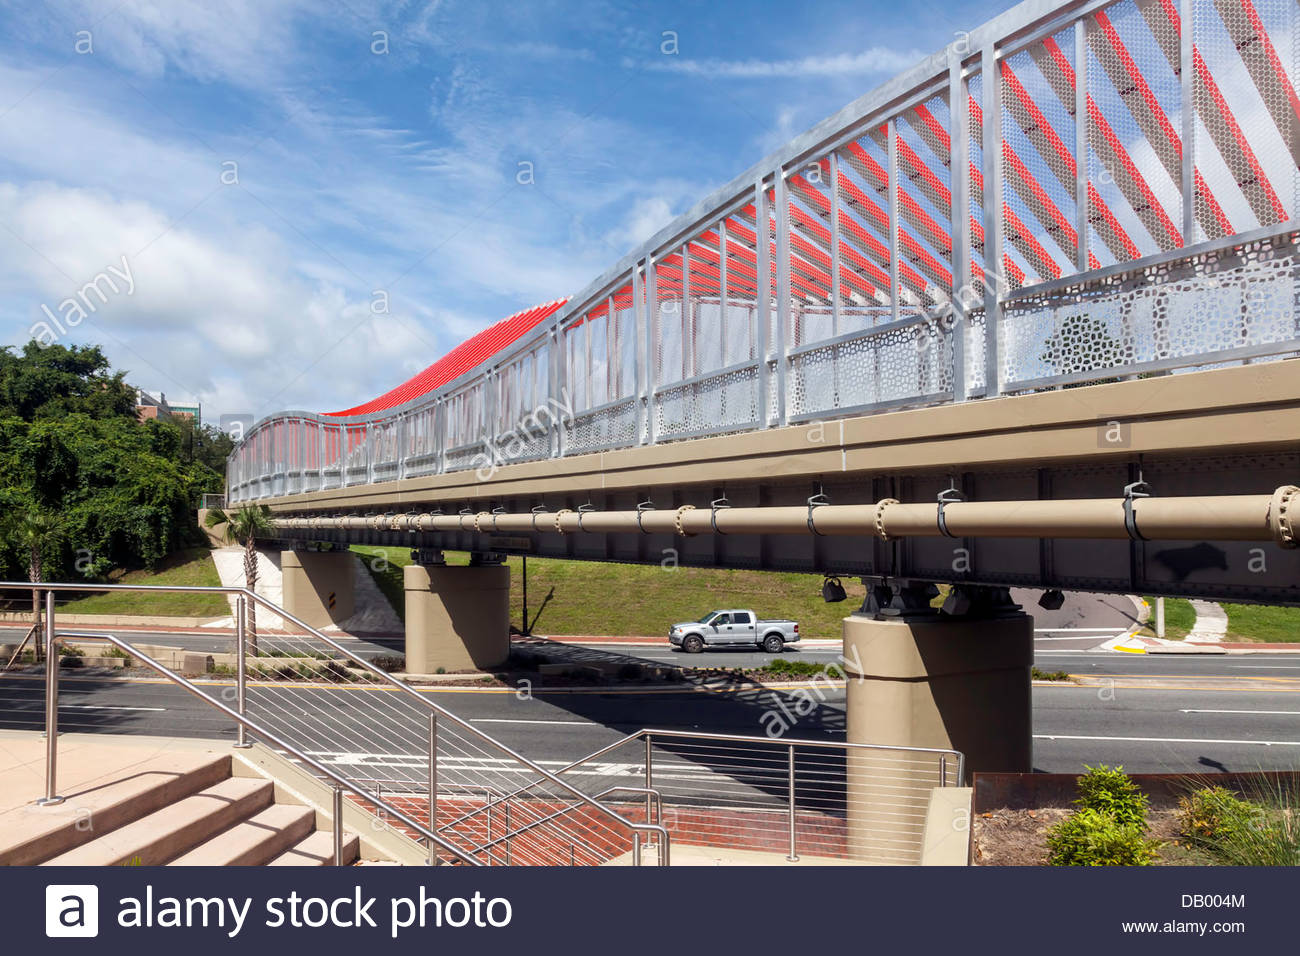bridge: (196, 1, 1300, 602)
